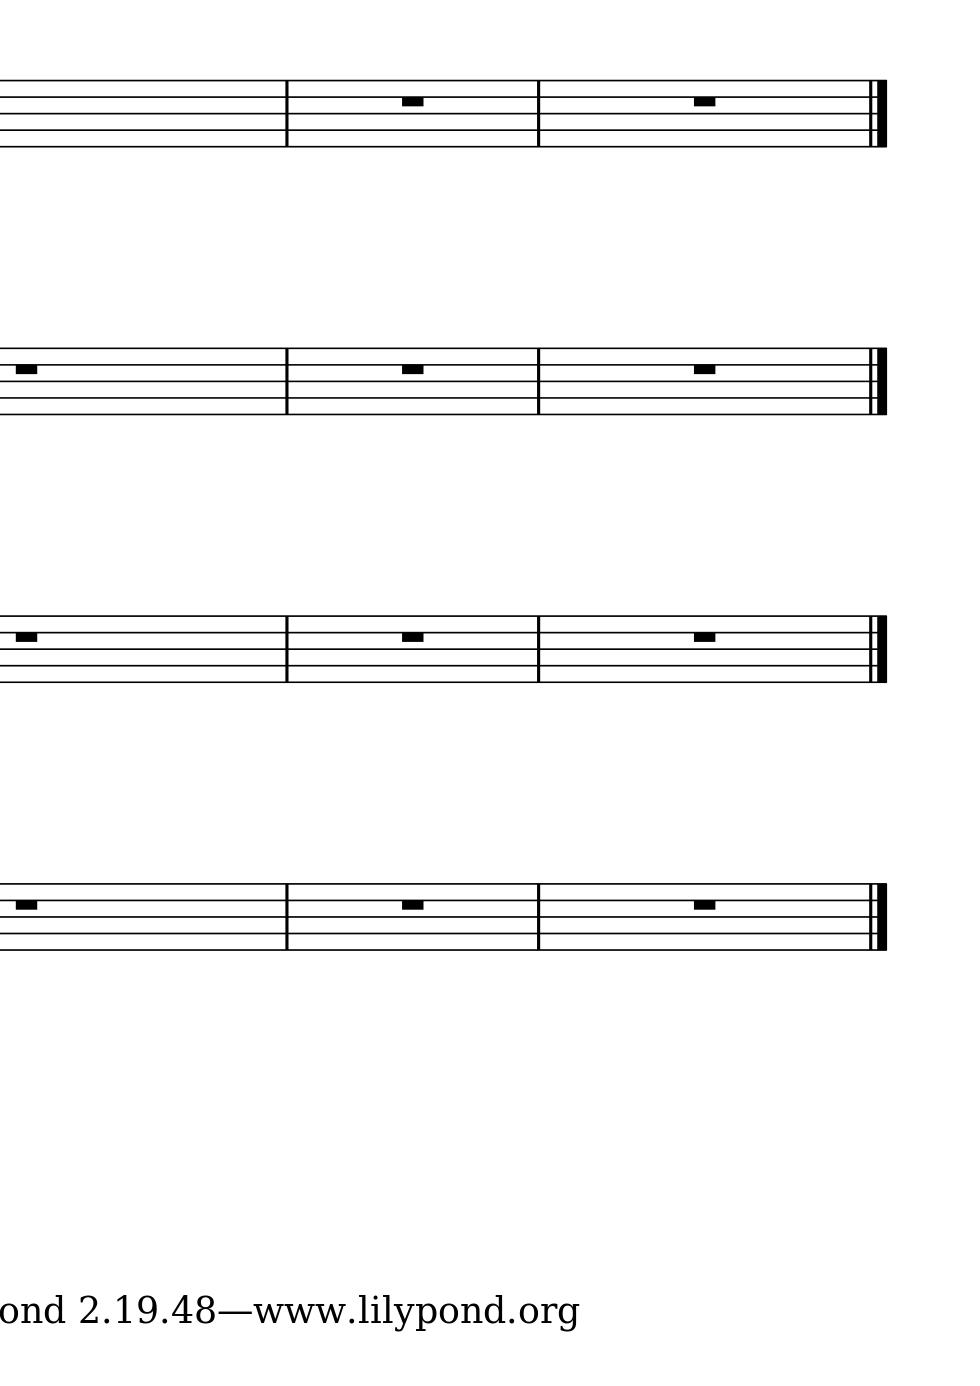Final_barline: (863, 346, 890, 415), (863, 882, 890, 950), (864, 78, 890, 147), (864, 615, 890, 682)
Rests1: (10, 895, 43, 914), (11, 627, 43, 646), (688, 895, 720, 914), (11, 359, 43, 378), (396, 895, 428, 913), (689, 627, 720, 646), (397, 92, 428, 110), (397, 359, 428, 378), (397, 628, 428, 646), (689, 359, 720, 378), (689, 92, 719, 110)
Single_barline: (278, 81, 294, 147), (530, 81, 546, 147), (278, 348, 294, 415), (530, 348, 546, 415), (530, 616, 546, 683), (278, 884, 294, 951), (278, 616, 294, 682), (530, 884, 546, 950)
